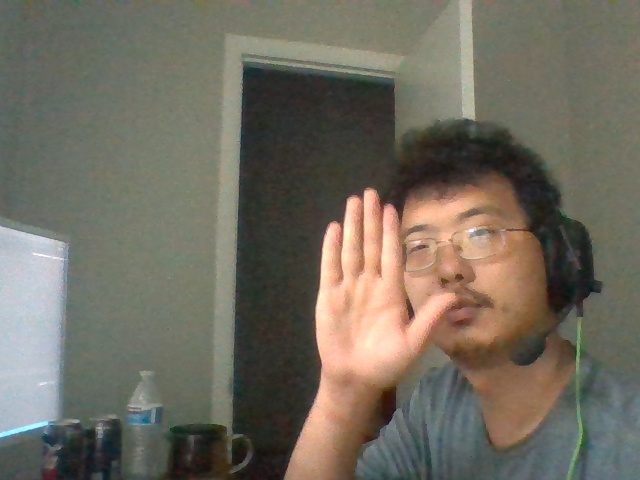ThankYou: (314, 187, 457, 390)
